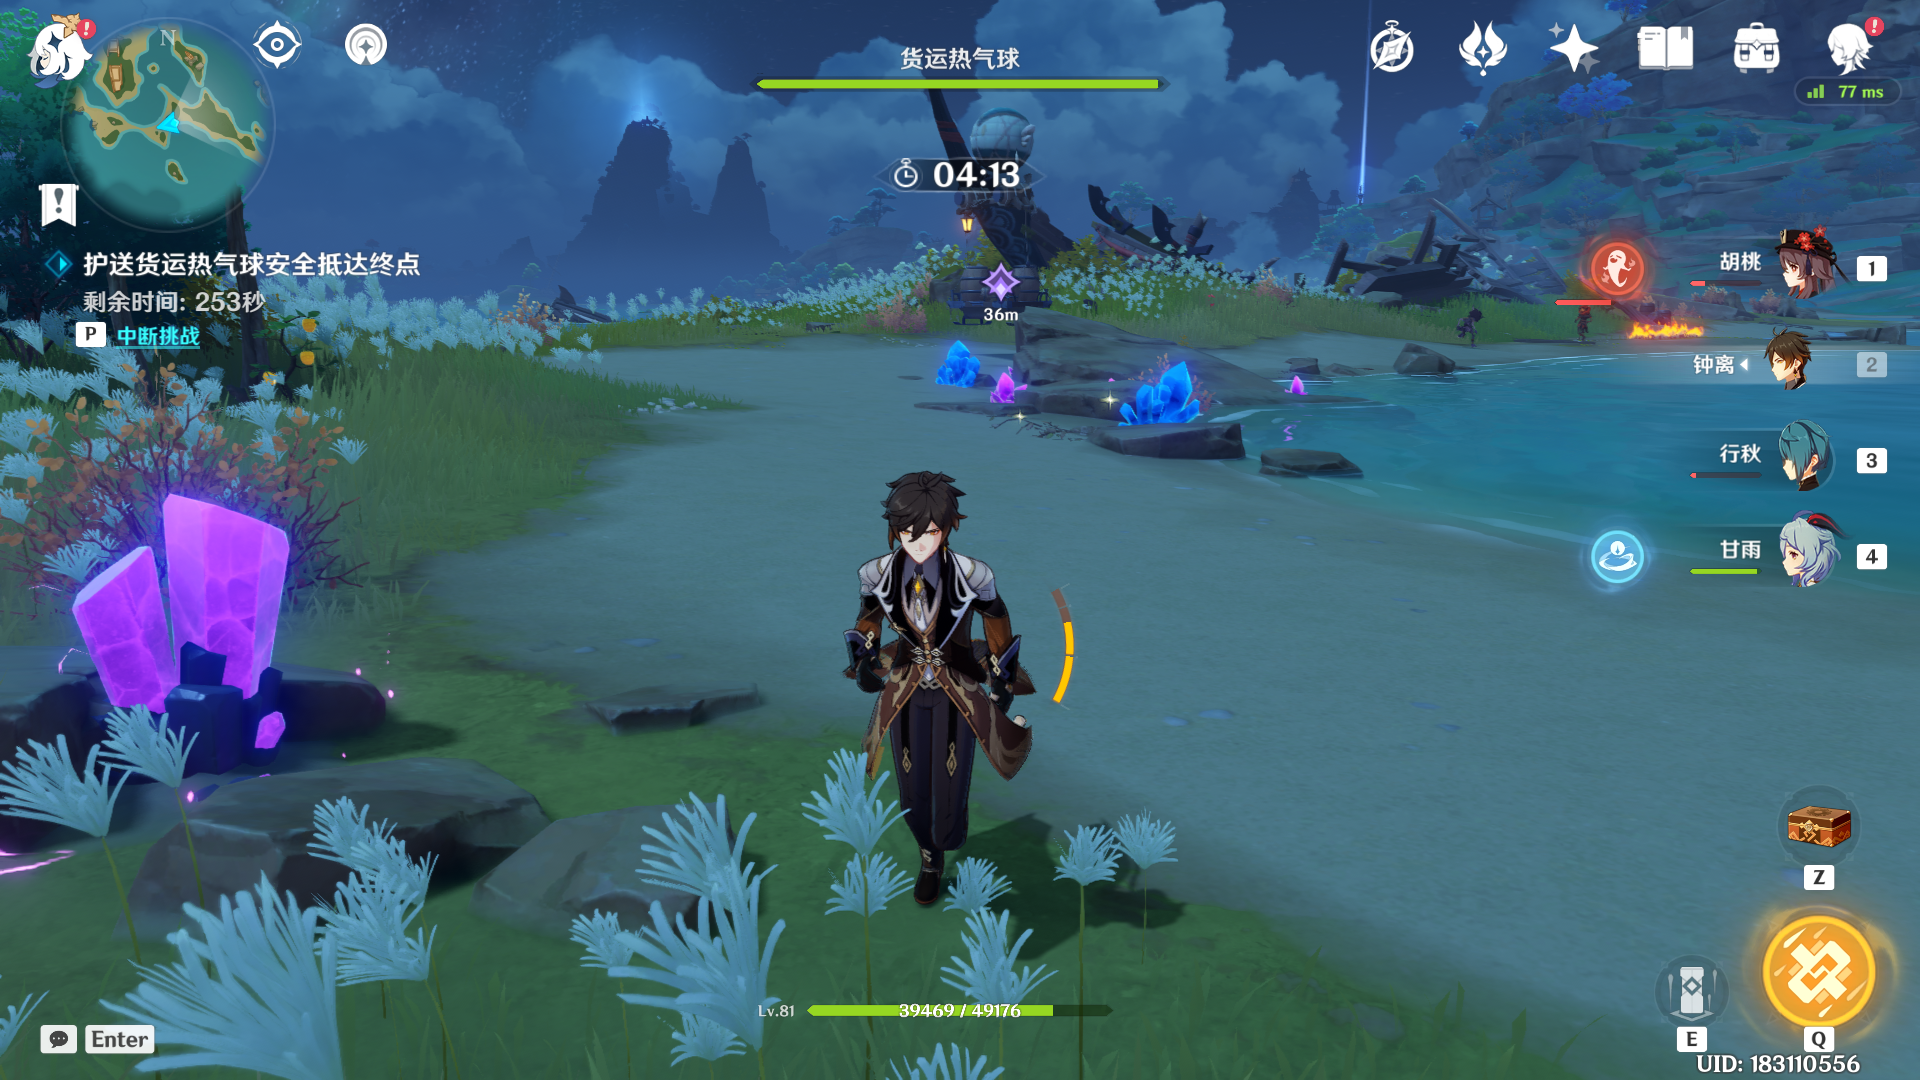character: (815, 460, 1065, 985)
